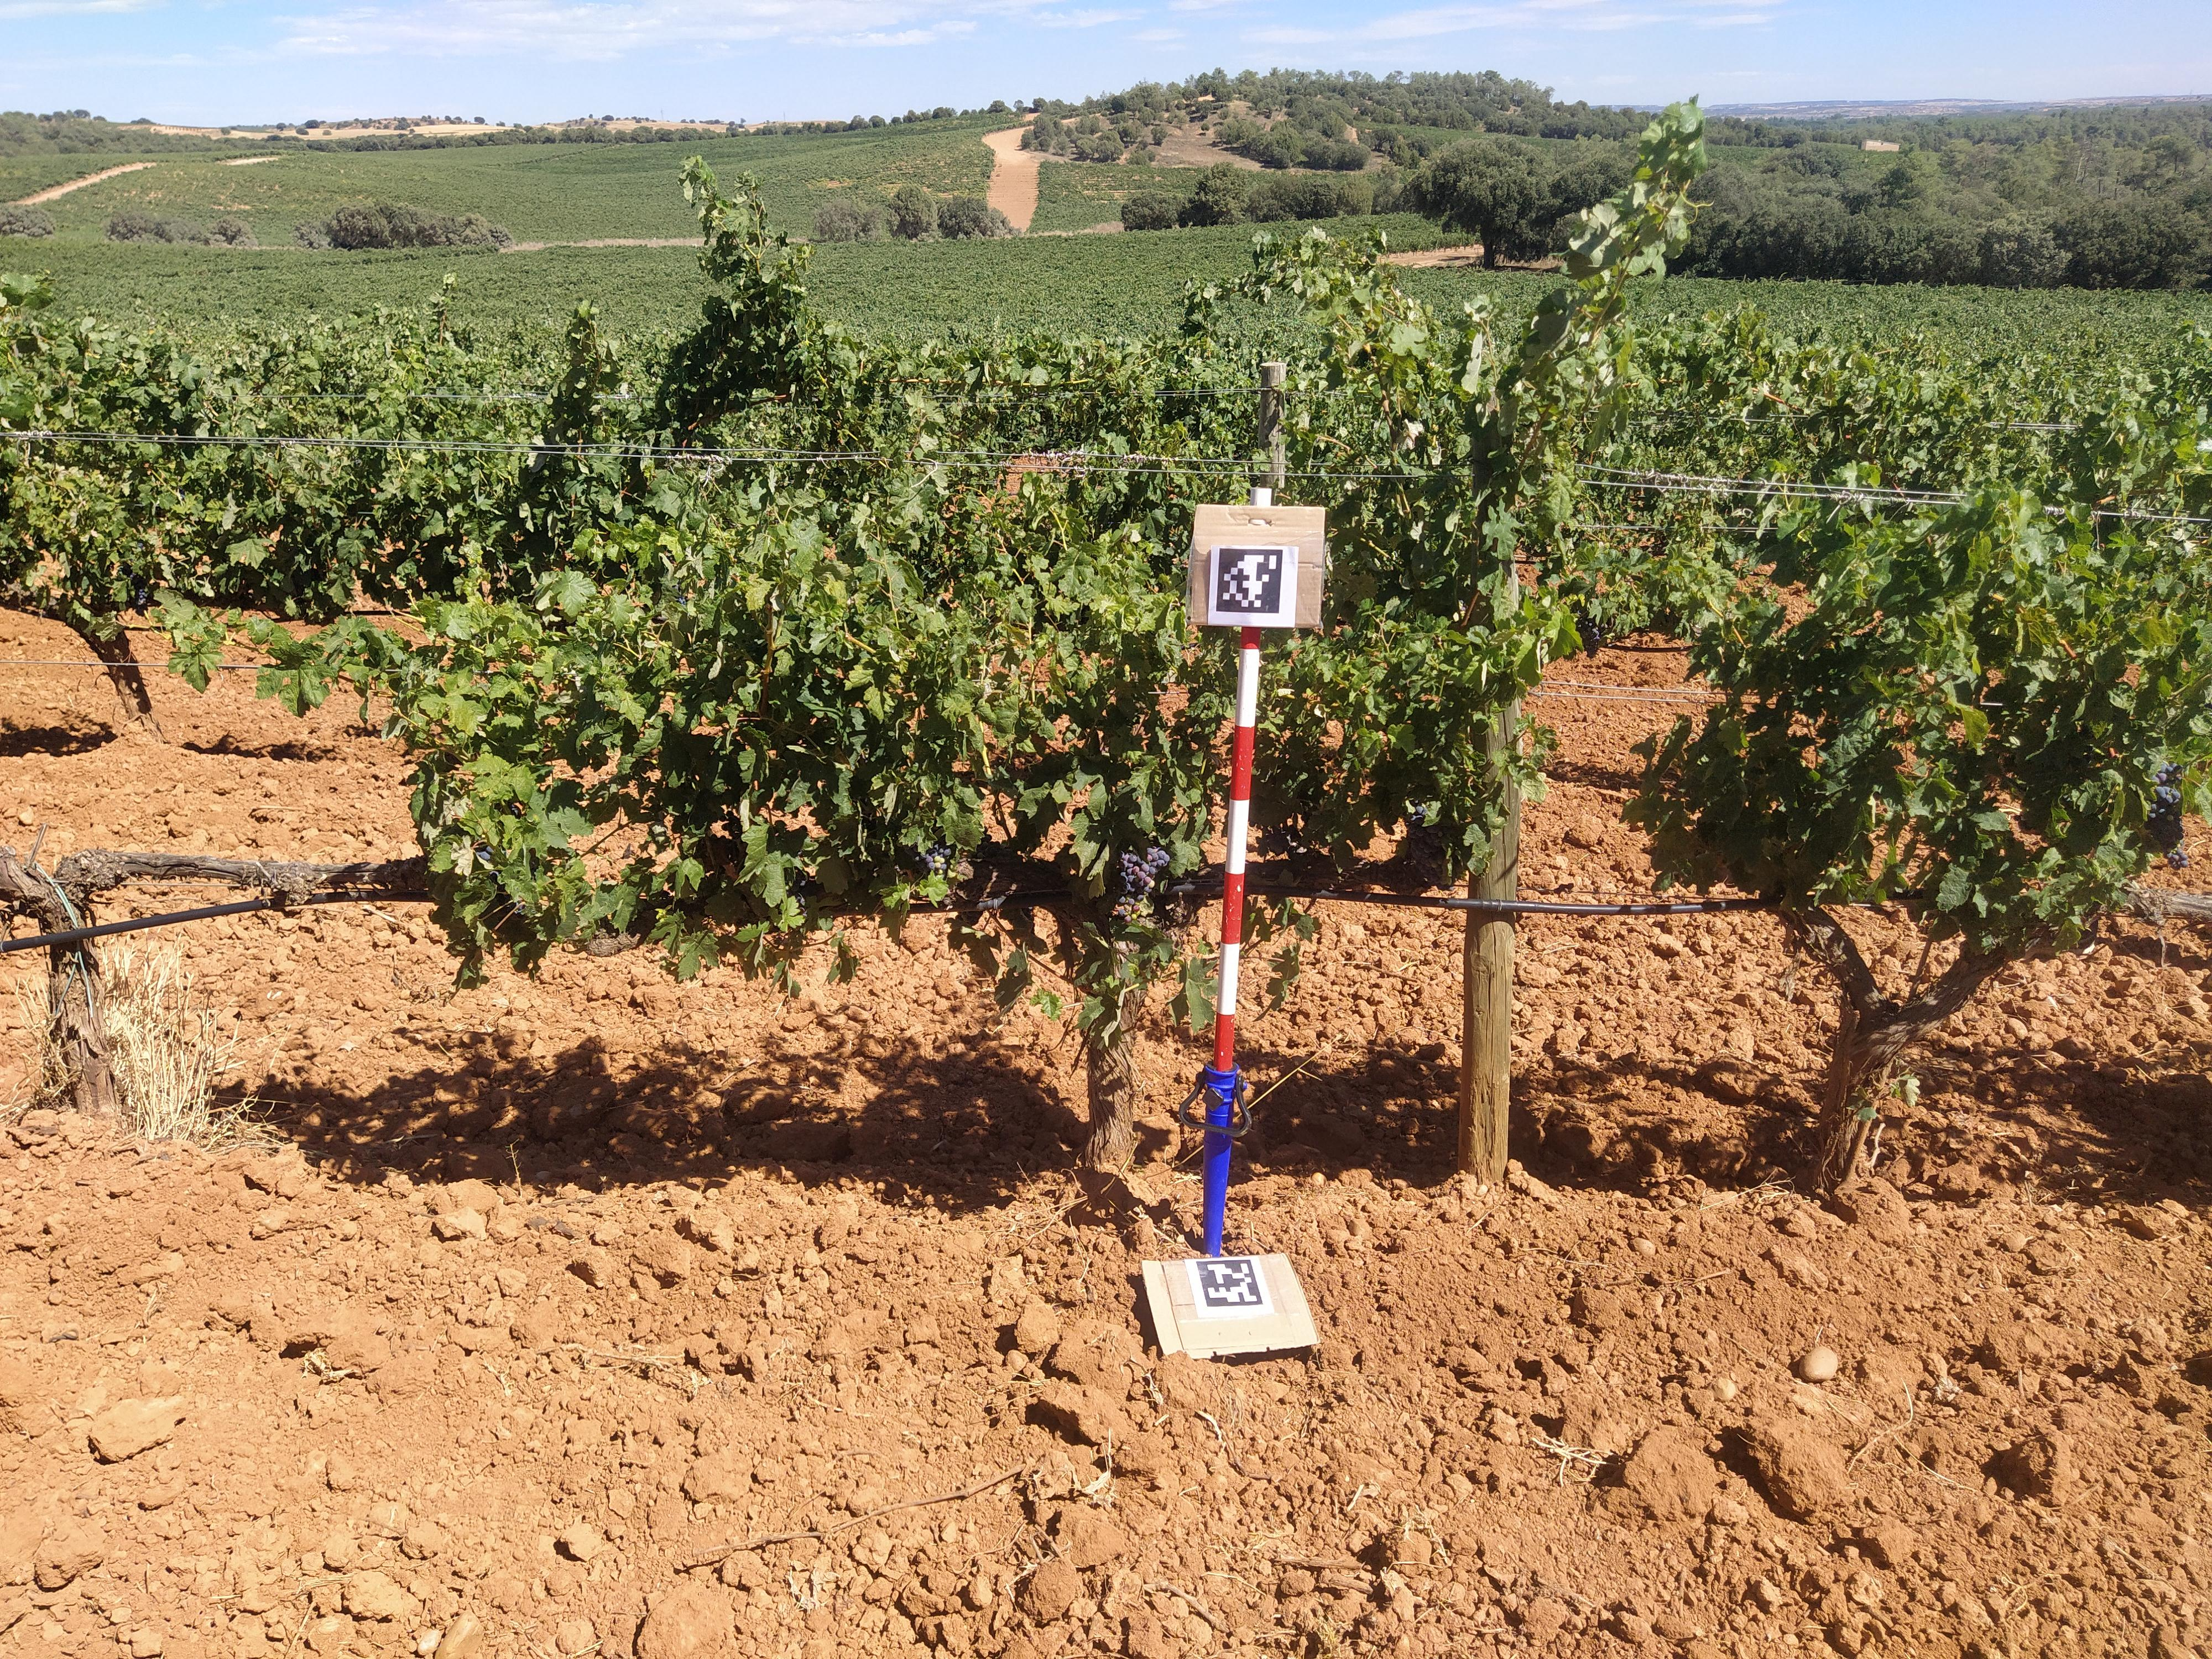0: (2144, 762, 2191, 871), (1404, 802, 1454, 892), (1113, 847, 1170, 925), (909, 842, 951, 877), (789, 870, 808, 913)
qr: (1217, 549, 1282, 613)
